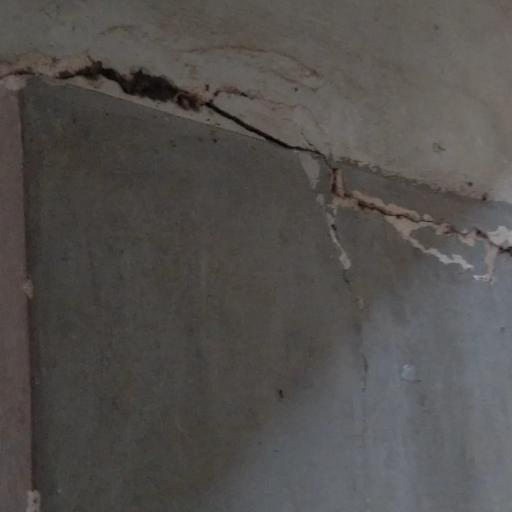major_crack: (0, 39, 512, 269)
